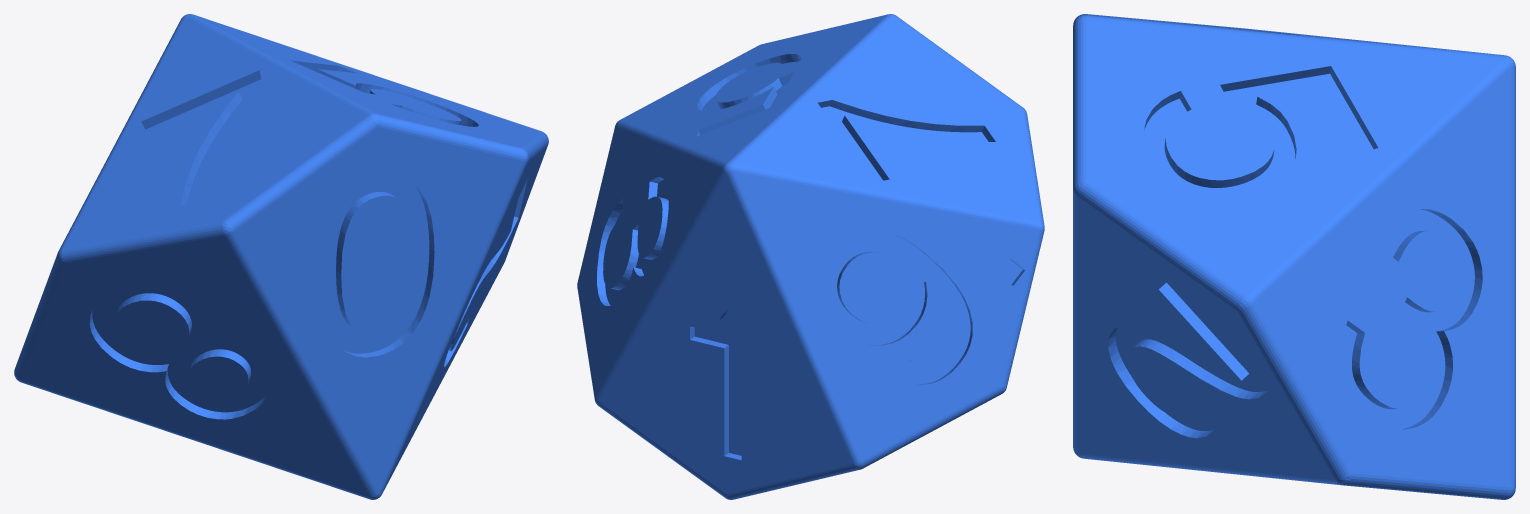
3 views of the same model, side by side, from view 1: azimuth 30°, elevation 25°; view 2: azimuth 150°, elevation 25°; view 3: azimuth 270°, elevation 25° (orthographic). The views are drawn at different scales.
Size of the model in its own units: 16.23 by 13.33 by 11.11.
